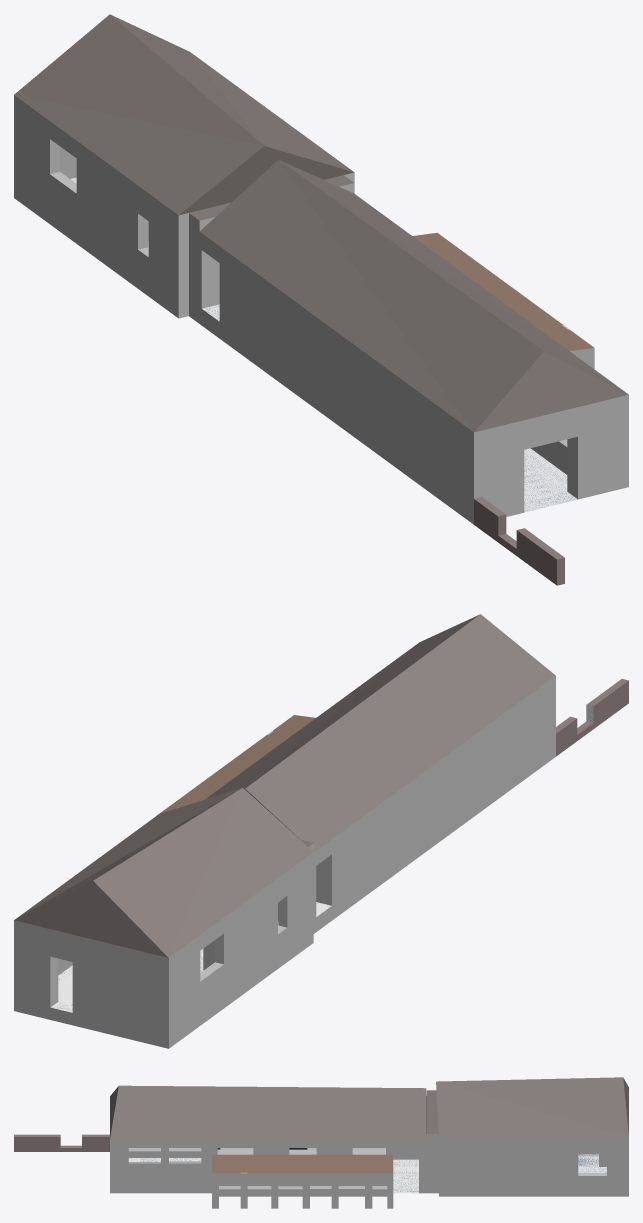
Rendered from nave respaunw abajo 1.fbx.
The picture shows the model from 3 angles, top to bottom: view 1: azimuth 30°, elevation 25°; view 2: azimuth 150°, elevation 25°; view 3: azimuth 270°, elevation 25°; orthographic projection. The views are drawn at different scales.
Parts seen in each view (by area): view 1: tejados, pared_exterior, techo_casetaa_rara, tejado, murito_fuera, marcos_de_ventana_y_puertas, suelo, techo_garabatos, Model; view 2: tejados, pared_exterior, techo_casetaa_rara, murito_fuera, marcos_de_ventana_y_puertas, suelo; view 3: tejados, pared_exterior, techo_casetaa_rara, muros_raro_exterior, suelo, murito_fuera, marcos_de_ventana_y_puertas, muro_de_dentro, Model.
Part boxes in pixels (x1,y1,x2,y2): tejados: [14, 14, 628, 432]; pared_exterior: [14, 95, 628, 524]; techo_casetaa_rara: [412, 232, 594, 350]; tejado: [179, 146, 353, 215]; murito_fuera: [474, 497, 564, 585]; marcos_de_ventana_y_puertas: [50, 139, 577, 498]; suelo: [70, 177, 577, 512]; techo_garabatos: [178, 172, 354, 318]; Model: [524, 457, 567, 499]; tejados: [14, 614, 555, 957]; pared_exterior: [14, 676, 555, 1048]; techo_casetaa_rara: [159, 715, 315, 813]; murito_fuera: [556, 679, 628, 756]; marcos_de_ventana_y_puertas: [50, 854, 331, 1007]; suelo: [51, 902, 331, 1012]; tejados: [110, 1077, 628, 1139]; pared_exterior: [110, 1134, 628, 1196]; techo_casetaa_rara: [212, 1154, 393, 1173]; muros_raro_exterior: [212, 1172, 393, 1208]; suelo: [128, 1154, 606, 1193]; murito_fuera: [14, 1134, 109, 1151]; marcos_de_ventana_y_puertas: [128, 1149, 606, 1175]; muro_de_dentro: [128, 1148, 385, 1157]; Model: [128, 1158, 200, 1161].
Size of the model in its own units: 12.33 by 8.88 by 51.94.
